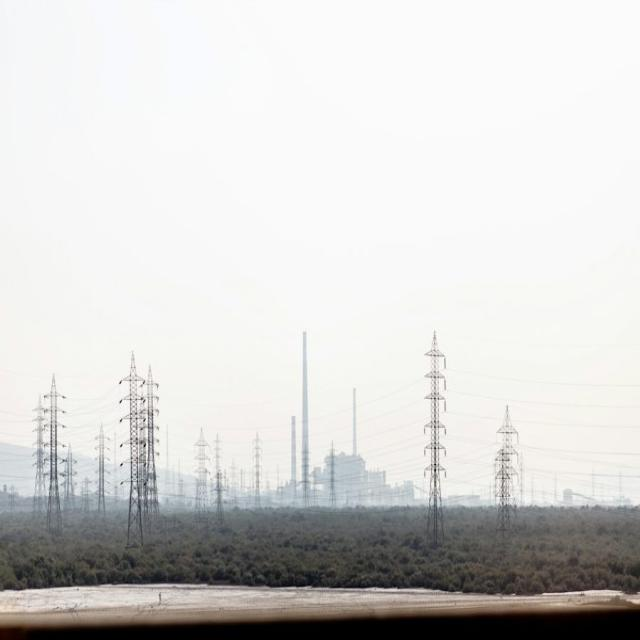transmission tower: (392, 306, 466, 560), (110, 340, 154, 550), (30, 375, 86, 533), (482, 406, 535, 564)
